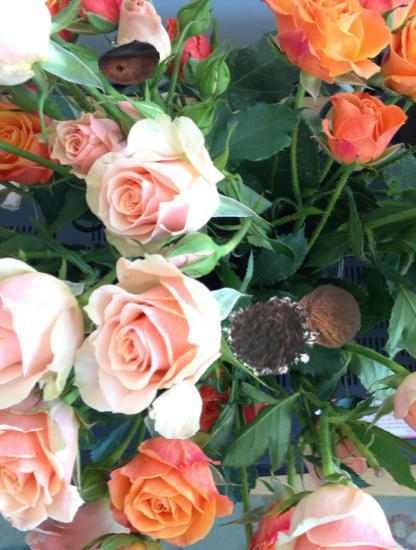Chestnut: (97, 31, 160, 94)
Rambutan: (222, 285, 324, 387)
Walnut: (295, 282, 363, 350)
